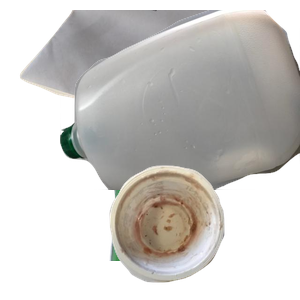glass: (107, 120, 278, 300)
paper: (17, 10, 254, 141)
plastic: (60, 10, 300, 190)
trash: (107, 163, 300, 300)
